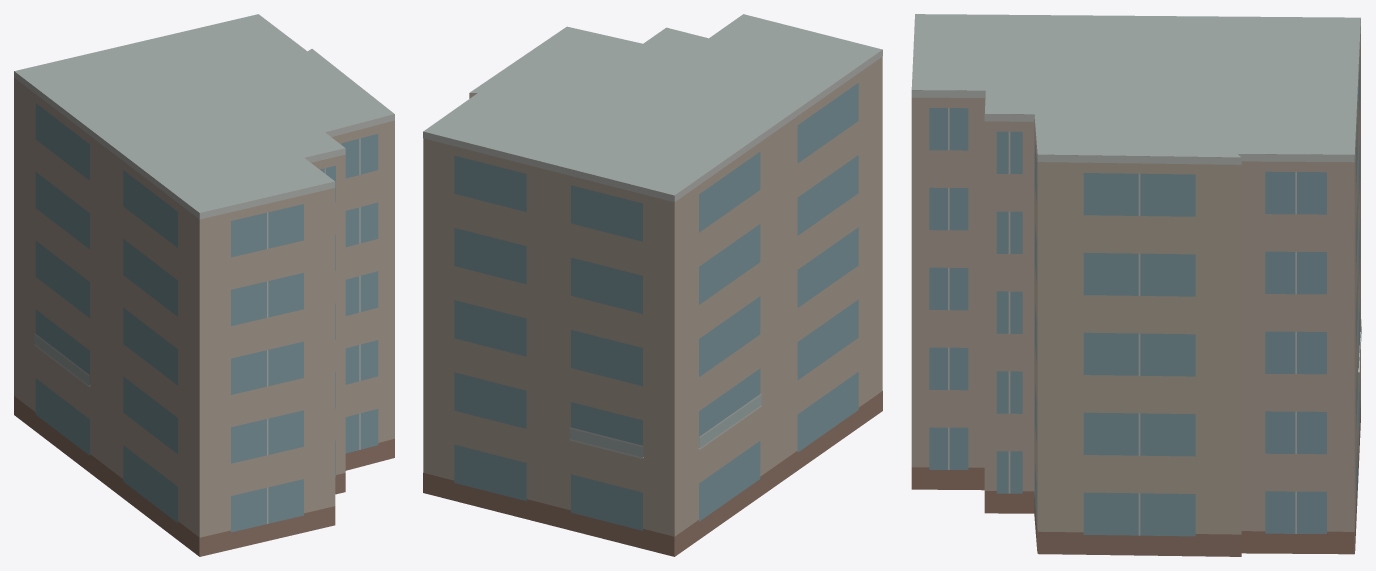
Rendered from survey-upis-33041592.glb.
3 views of the same model, side by side, from view 1: azimuth 30°, elevation 25°; view 2: azimuth 150°, elevation 25°; view 3: azimuth 270°, elevation 25° (orthographic). The views are drawn at different scales.
Visible parts, largest first — view 1: survey-upis-33041592.tmp; view 2: survey-upis-33041592.tmp; view 3: survey-upis-33041592.tmp.
Part boxes in pixels (x1,y1,x2,y2): survey-upis-33041592.tmp: [14, 14, 394, 556]; survey-upis-33041592.tmp: [423, 14, 882, 556]; survey-upis-33041592.tmp: [911, 14, 1361, 556].
Bounding box in the file's own units: 10.02 × 13 × 13.27.
